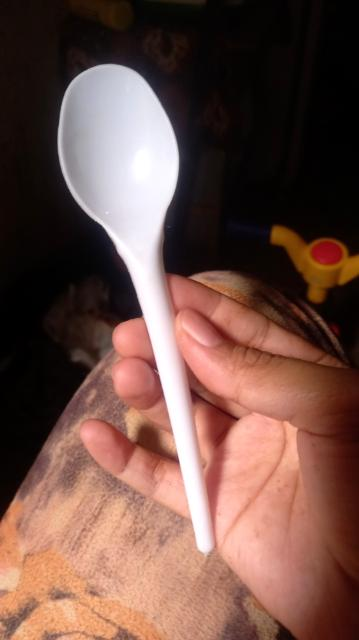Spoon: (59, 65, 213, 554)
